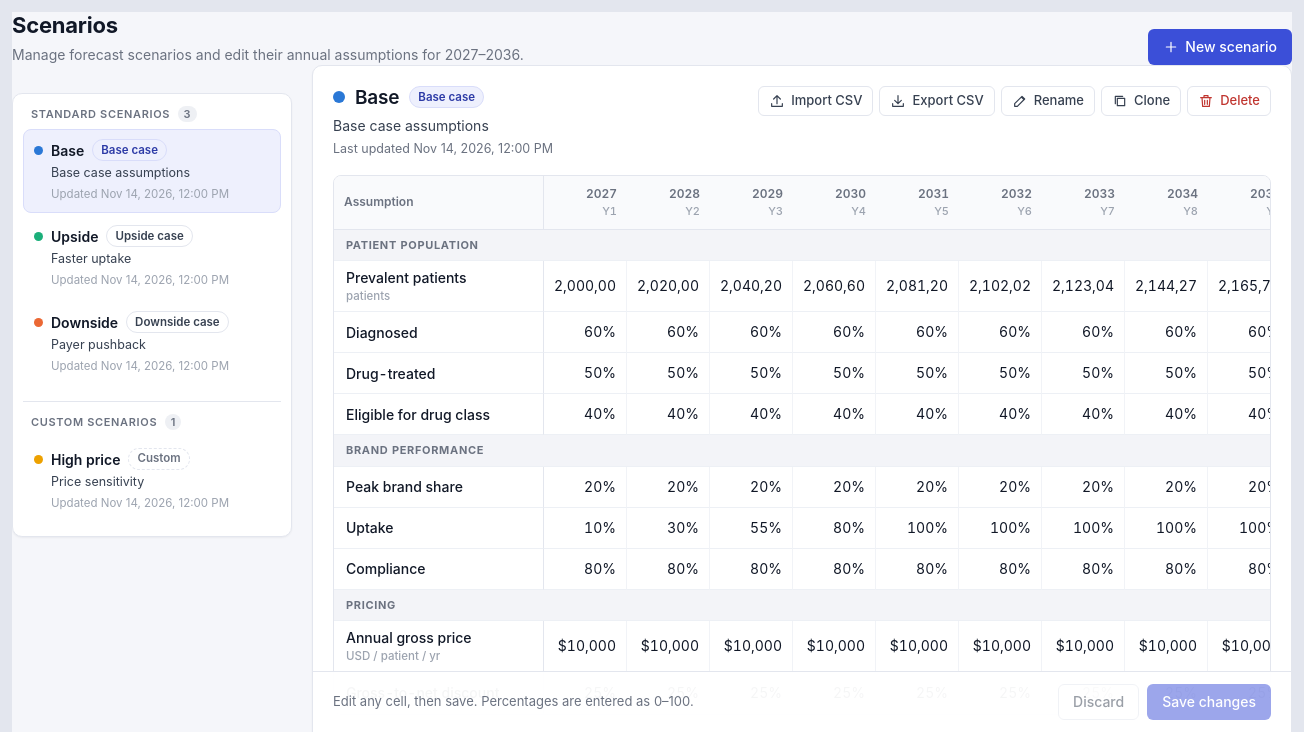
ScenariosPage – list › switches the active scenario
This screenshot has width=1304, height=732.
Expected: the table is shown, [334,176,1271,714]
Step 1. Click the button "High price" → (152, 480), box [23,438,281,522]
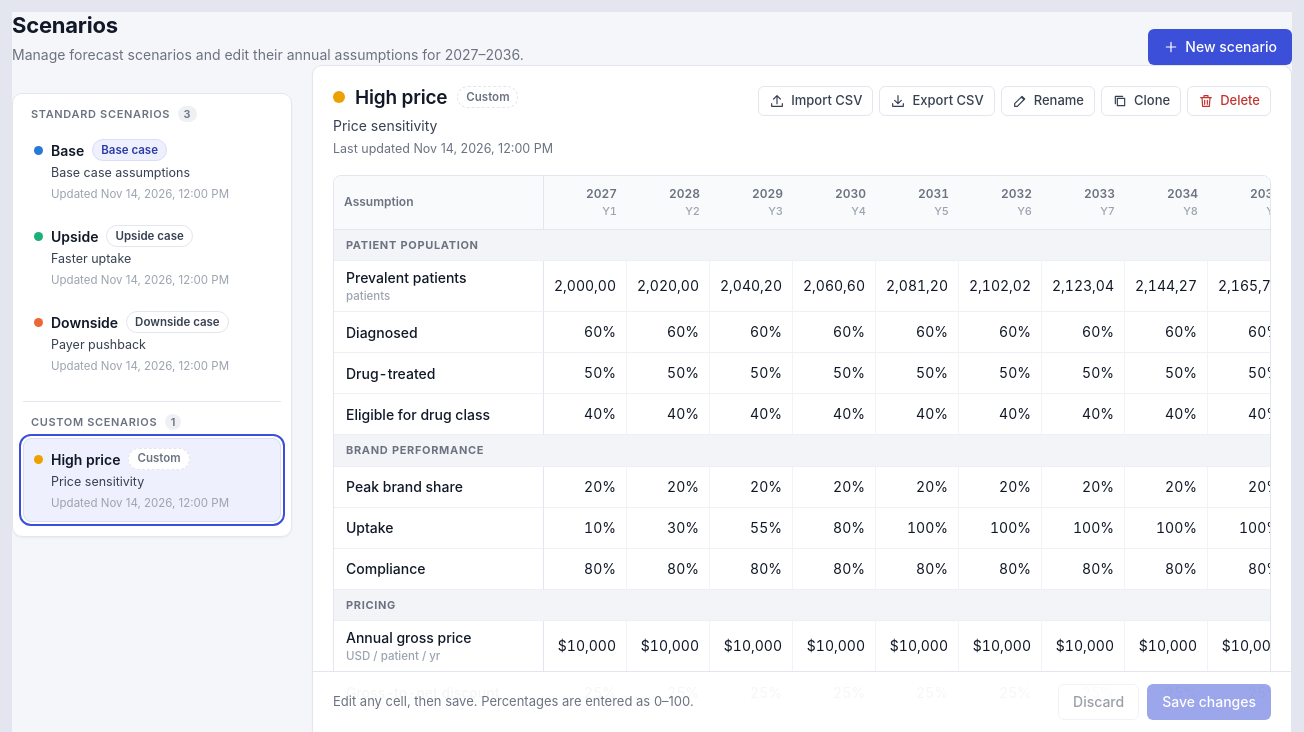
Now the heading "High price" is shown, box [355,86,447,109]
